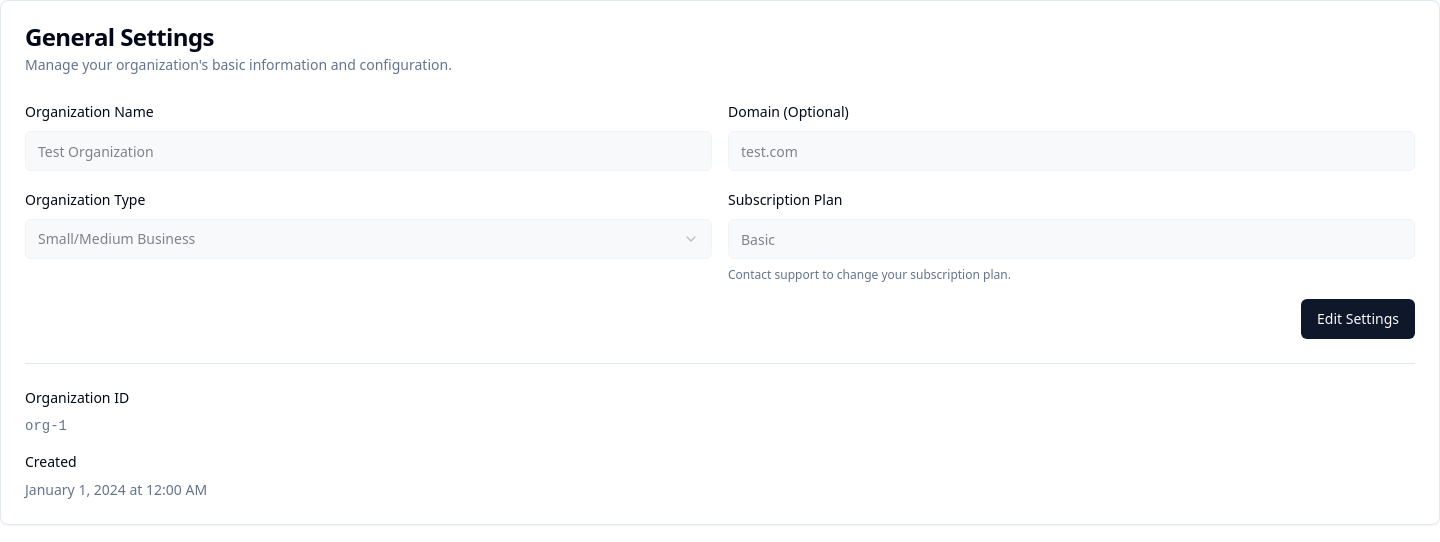
Test: OrganizationSettings › enables editing when edit button is clicked
Click the button "Edit Settings".
click(1358, 319)  # box [1301,299,1415,339]
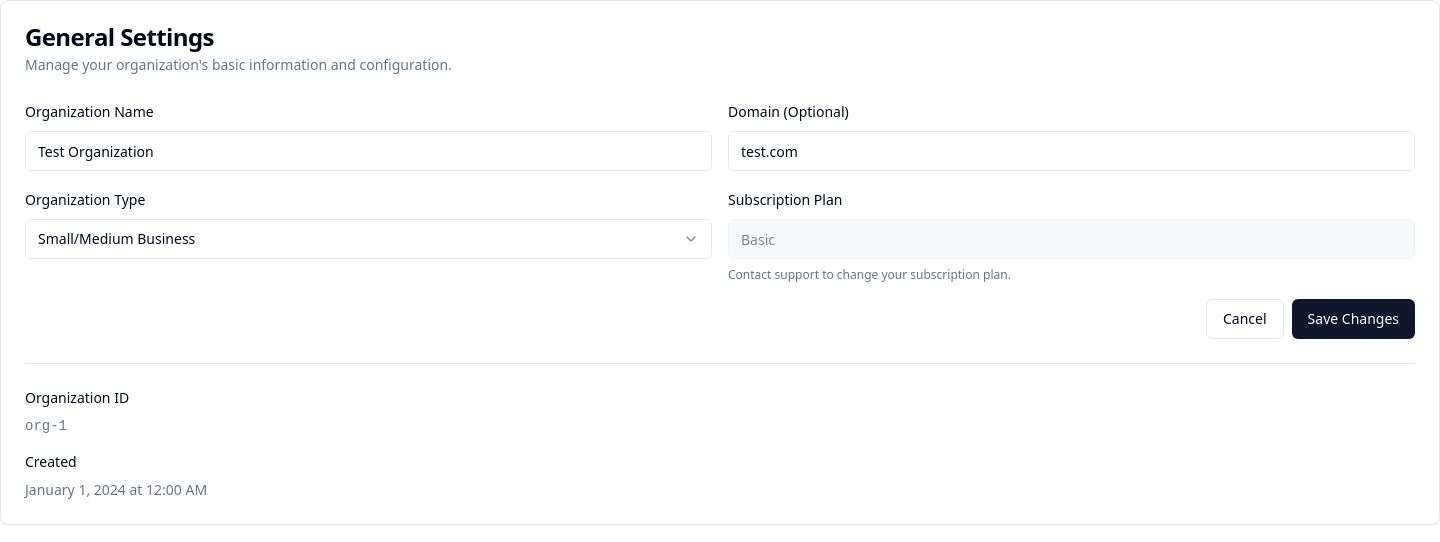
Now the button "Save Changes" is shown, box [1292,299,1415,339]
Now the button "Cancel" is shown, box [1206,299,1284,339]
